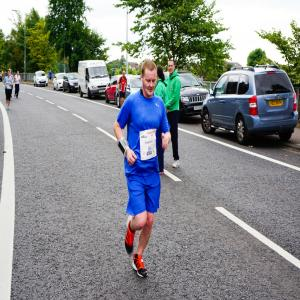Vehicle-registration-plate: (271, 97, 283, 107), (194, 104, 205, 112), (101, 90, 108, 96), (76, 85, 81, 91), (42, 81, 46, 84)
